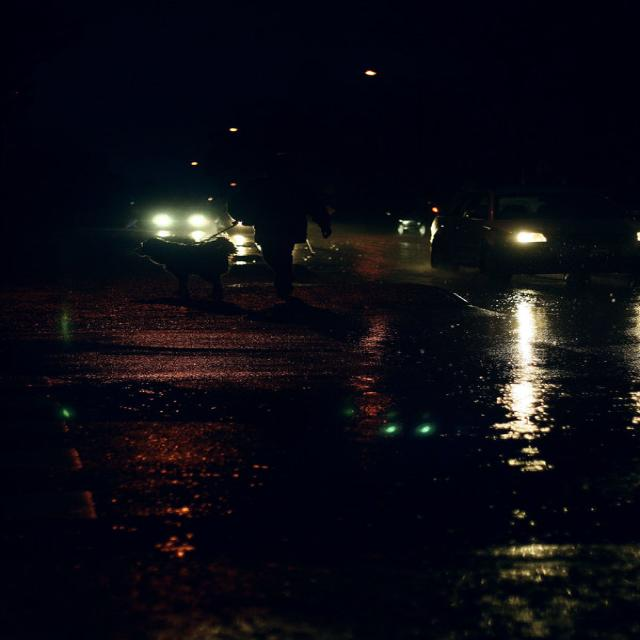Dog: (28, 217, 296, 324)
